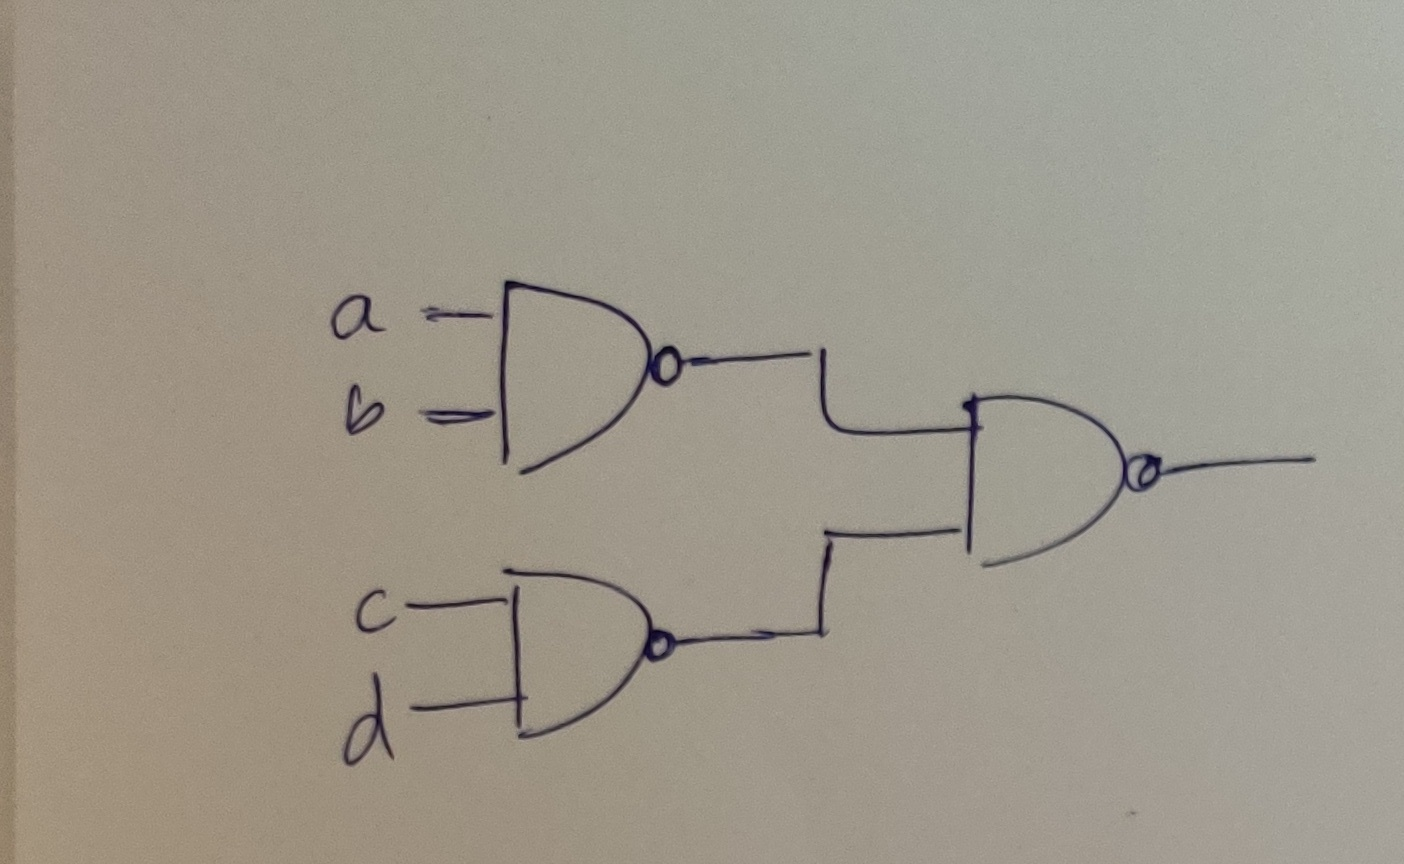nand: (917, 364, 1196, 592), (458, 258, 708, 511), (458, 556, 711, 756)
